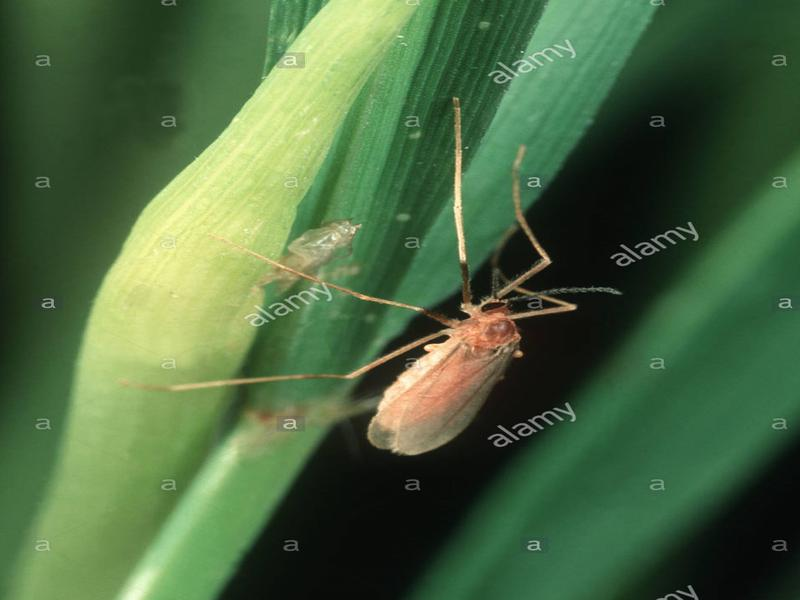Gall_midge: (314, 268, 565, 470)
